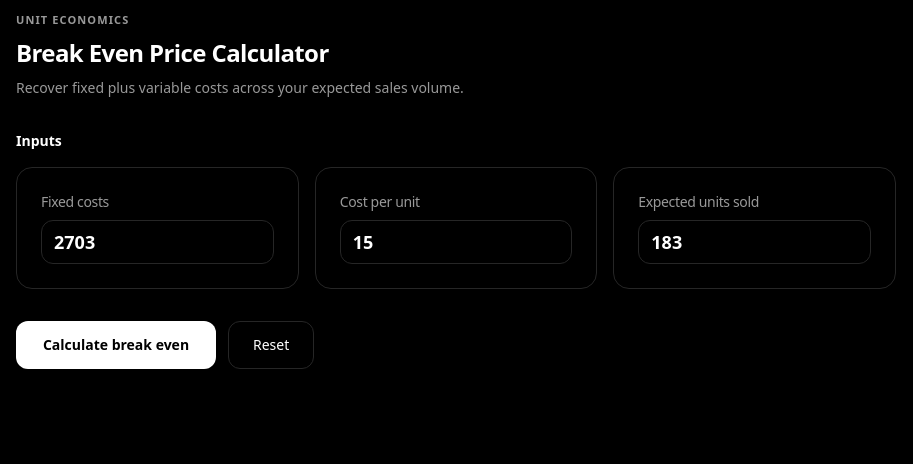
BreakEvenCalculatorMVP UI binding › shows validation when units sold is zero
Replace the text in the number field named "expected number of units sold" with "0" at (755, 242), box [638,220,871,264]
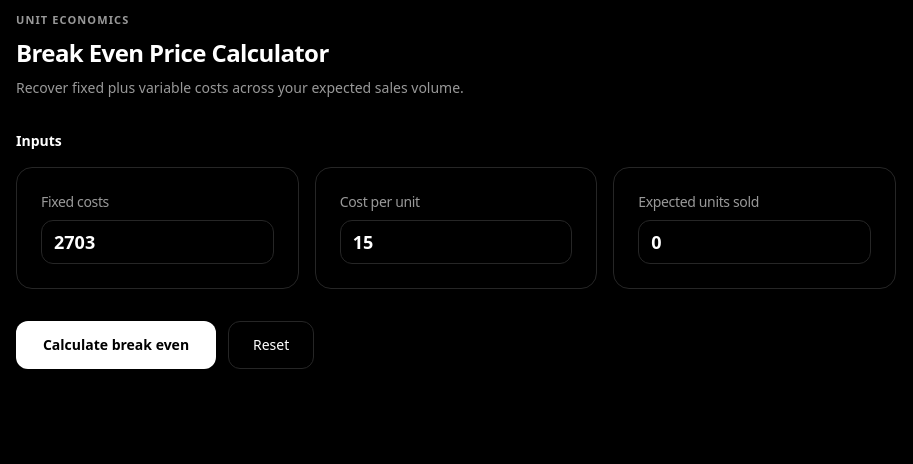
Click the button "Calculate break even".
click(116, 345)  # box [16,321,216,369]
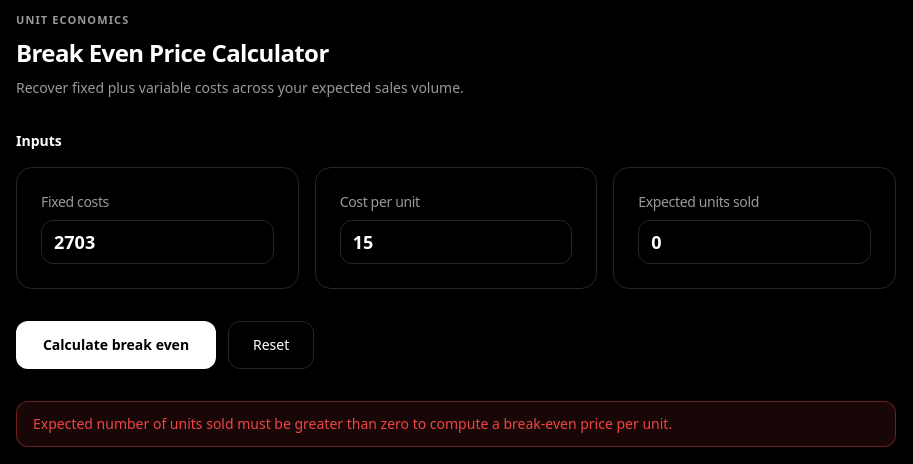
Check: the text "greater than zero" is shown, box [33,414,672,433]
